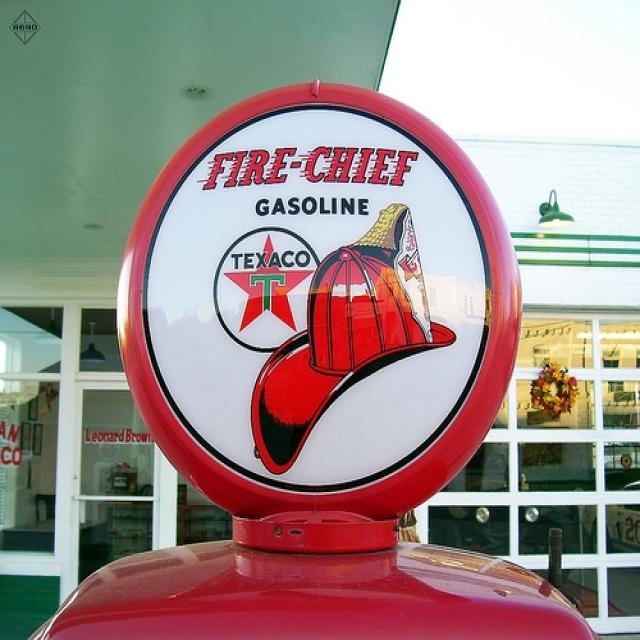texaco: (215, 229, 317, 349)
